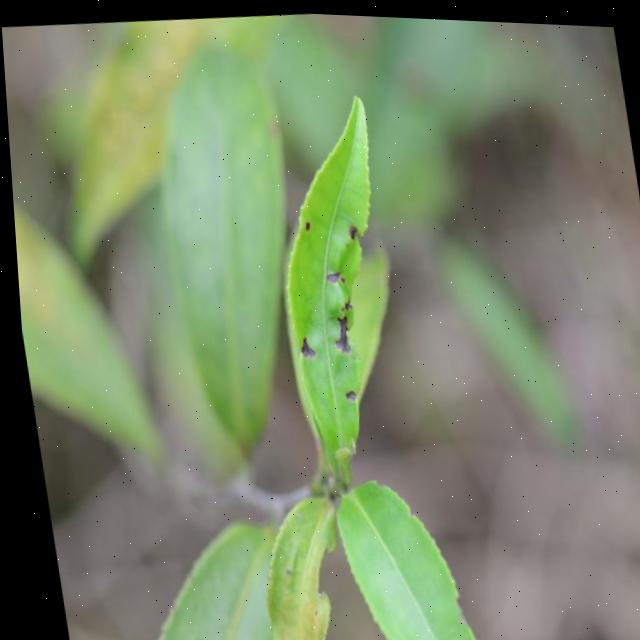Tea red scab: (313, 254, 360, 306), (317, 309, 360, 350), (330, 365, 361, 412), (284, 321, 317, 362), (293, 199, 317, 244), (341, 210, 359, 244)
